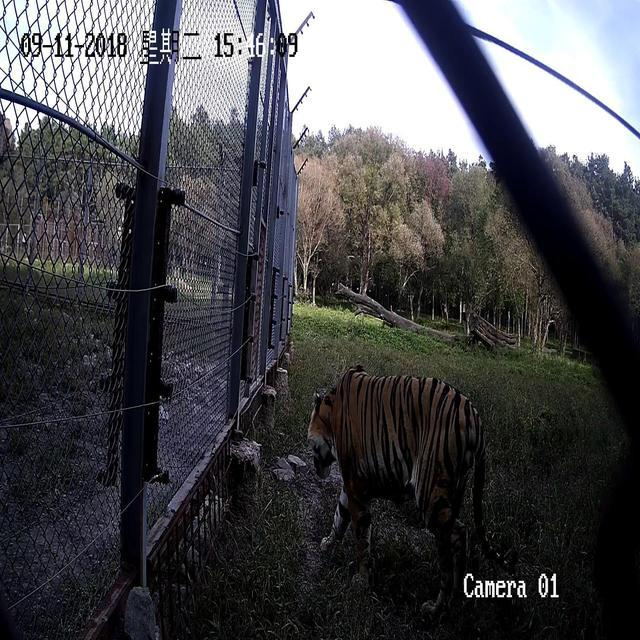tiger: (305, 362, 506, 616)
